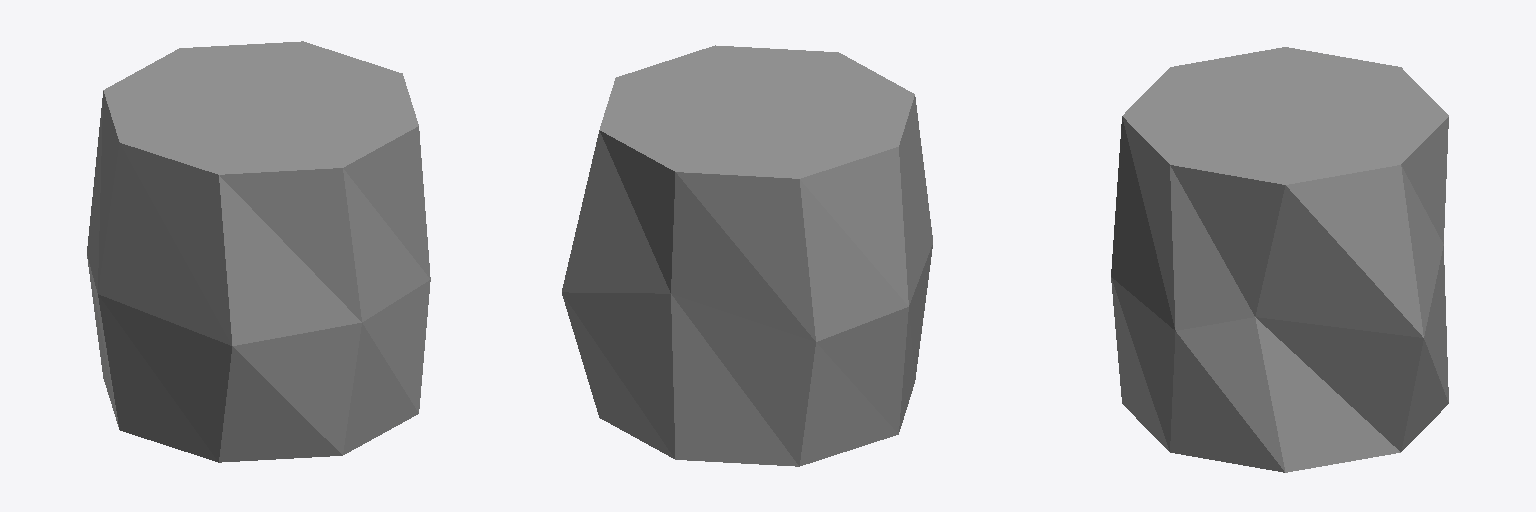
File: octagonalbloodvesselthing.obj
The picture shows the model from 3 angles: view 1: azimuth 30°, elevation 25°; view 2: azimuth 150°, elevation 25°; view 3: azimuth 270°, elevation 25°; orthographic projection.
Parts seen in each view (by area): view 1: Circle.002; view 2: Circle.002; view 3: Circle.002.
Boxes of the visible parts, x1,y1,x2,y2 form: Circle.002: [87, 41, 430, 462]; Circle.002: [562, 45, 932, 466]; Circle.002: [1111, 47, 1448, 472].
Size of the model in its own units: 1.06 by 0.9713 by 1.03.